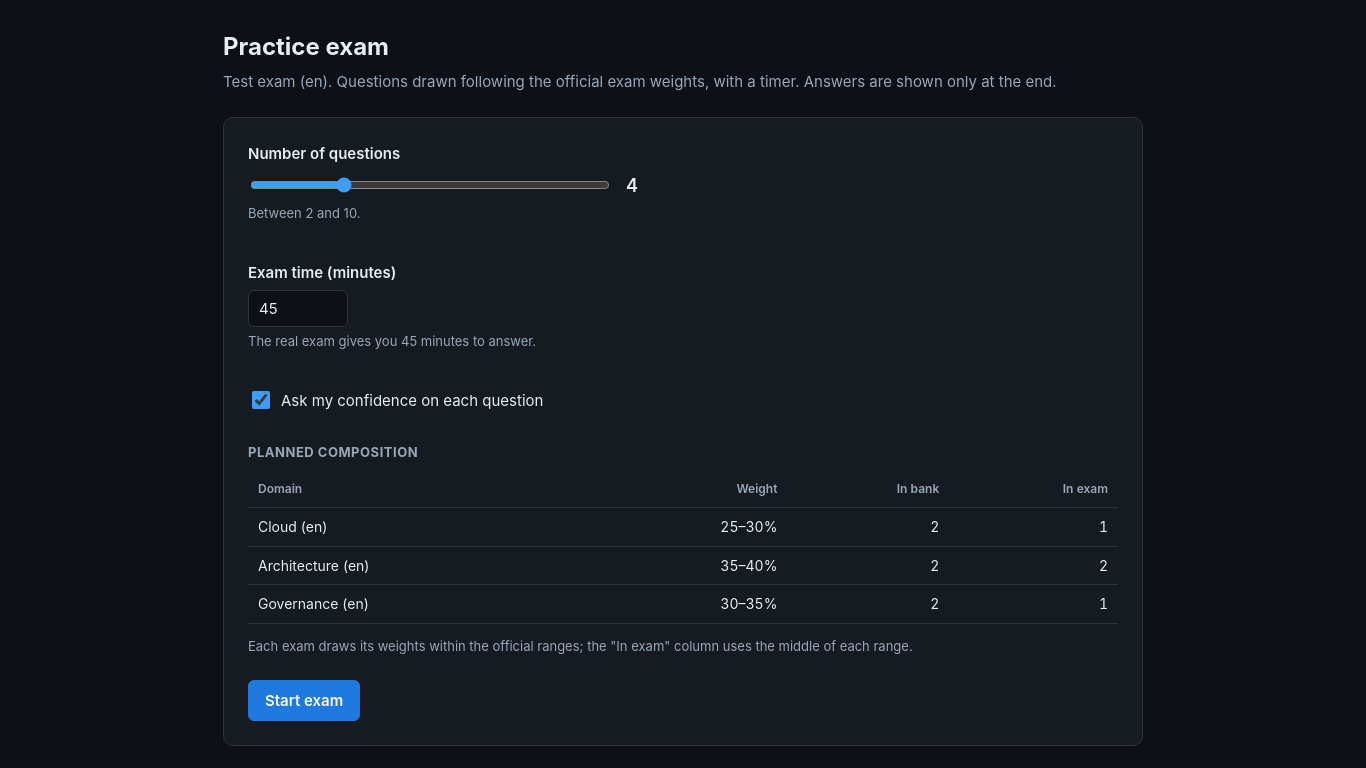
Scenario: ExamPage › flags a question and gives up
This screenshot has width=1366, height=768.
Click the button "Start exam". click: {"x": 304, "y": 701}
box: [248,680,360,722]
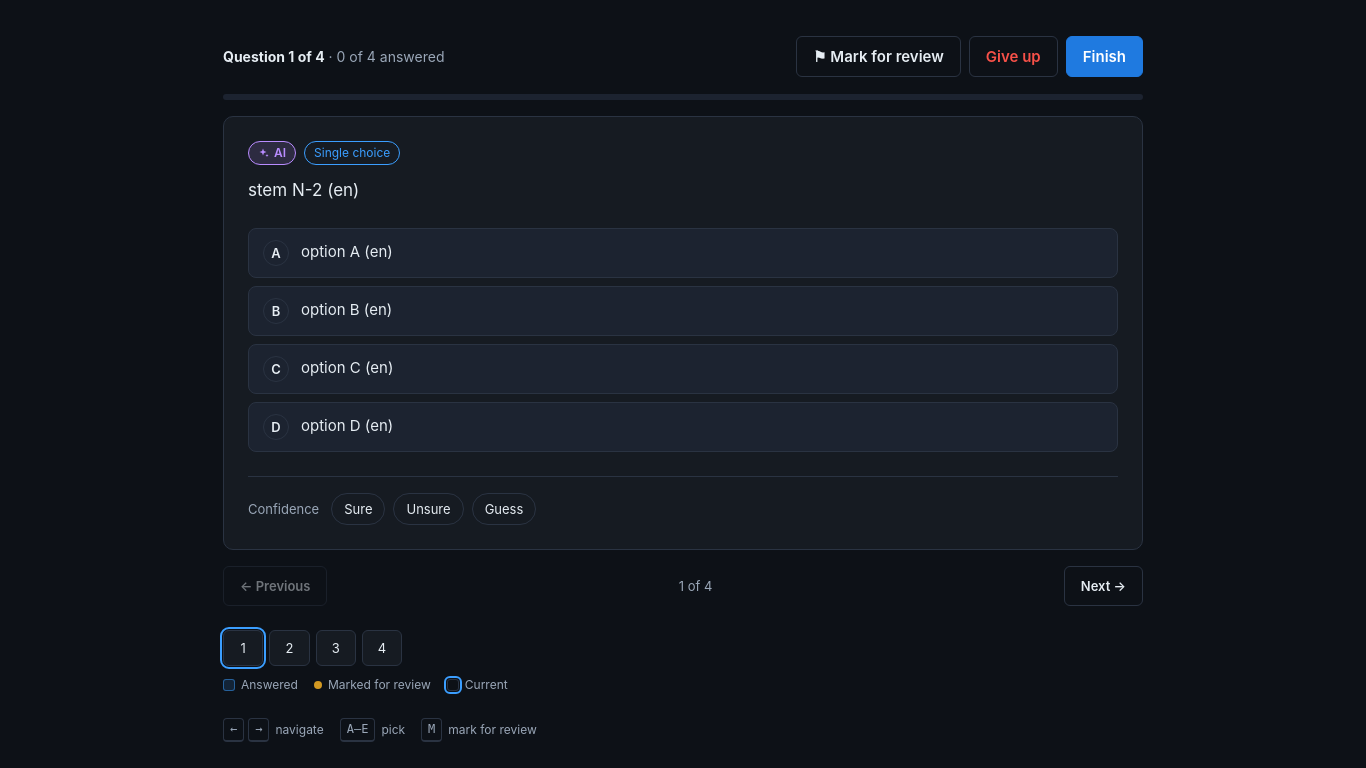
Click the button "⚑ Mark for review". click: {"x": 878, "y": 57}
box: [796,36,961,78]
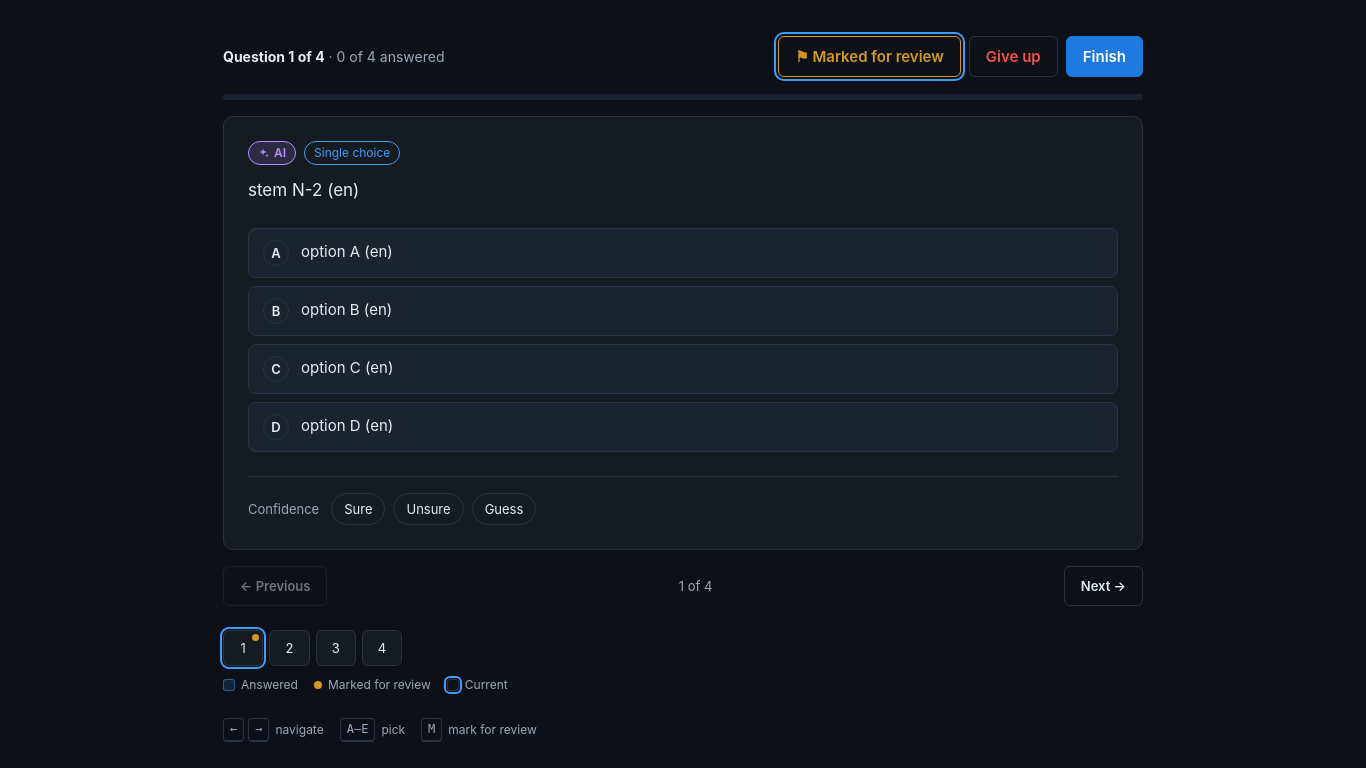
Now the button named "Question 1, marked for review" is shown, box [223,630,263,666]
Click the button "Give up". click: {"x": 1013, "y": 57}
box: [969,36,1058,78]
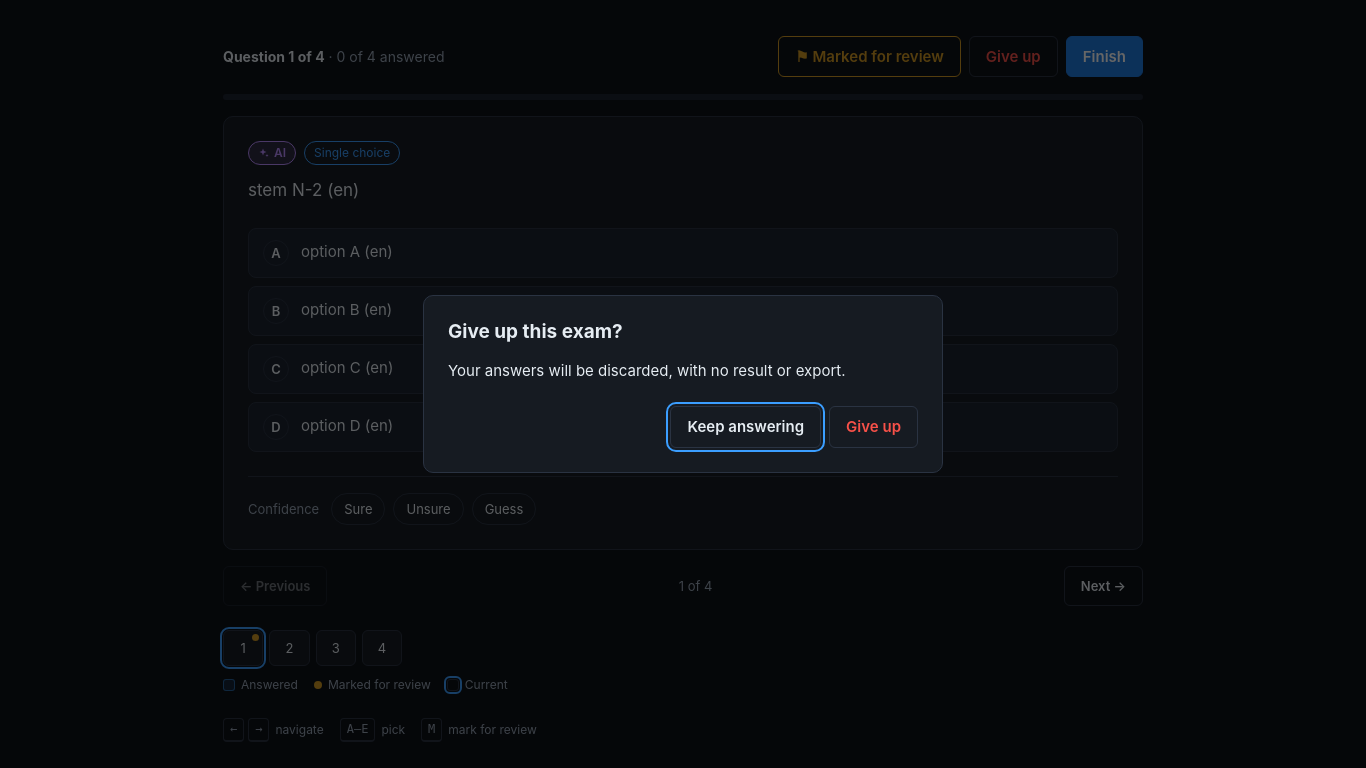
Click the button "Give up". click: {"x": 874, "y": 427}
box: [829,406,918,448]
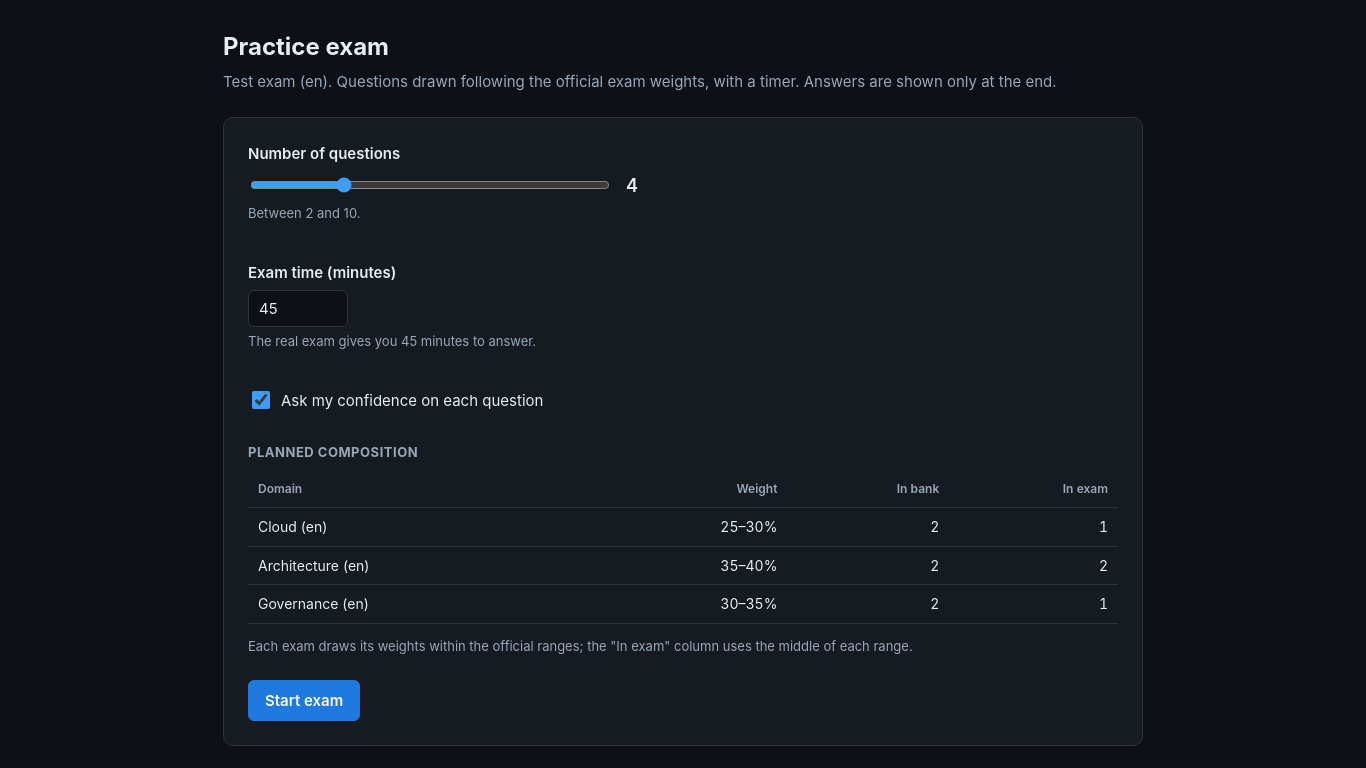
Now the button "Start exam" is shown, box [248,680,360,722]
